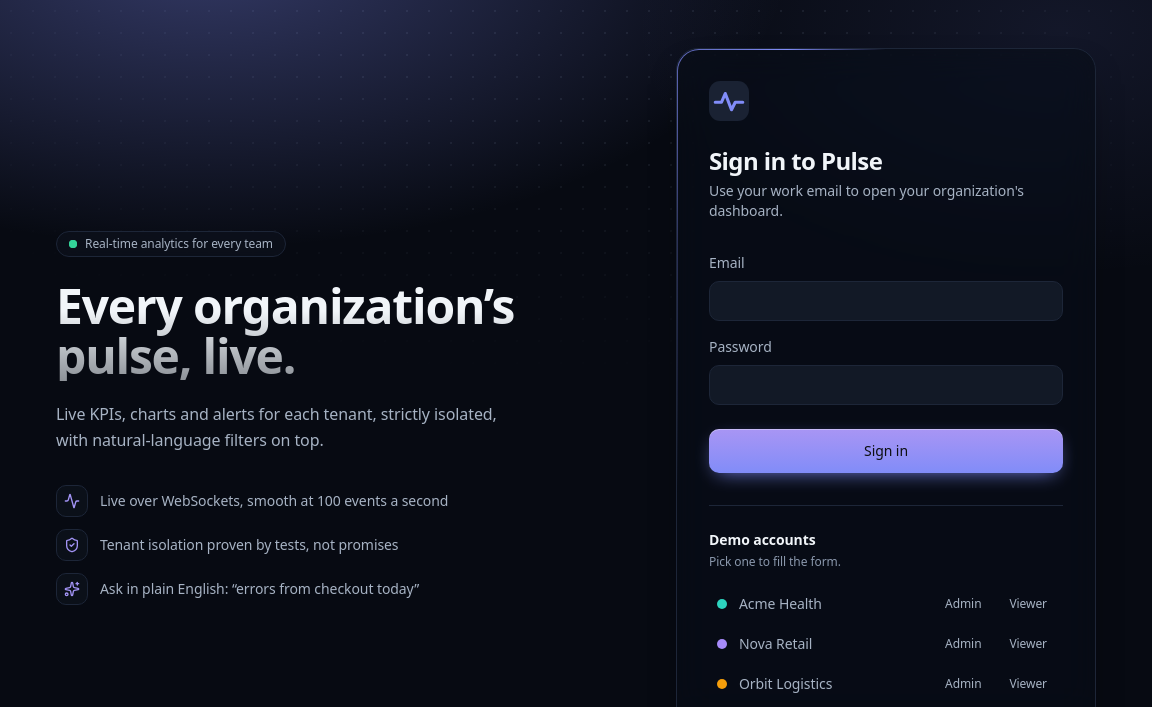
Test: Login page › shows the server's message when sign-in fails
# Demo account buttons fill the form.
Click the button "Viewer" in the row of "Acme Health": click(1028, 604) [1002, 590, 1055, 618]
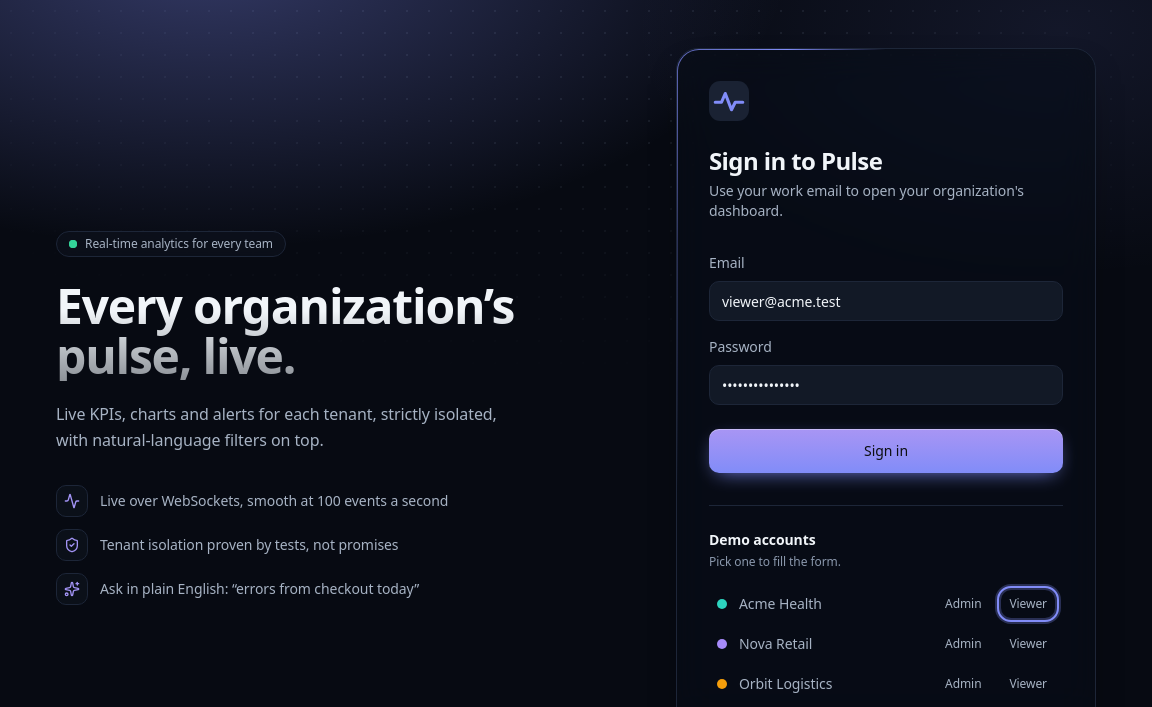
Click the button "Sign in": click(886, 451) [709, 429, 1063, 473]
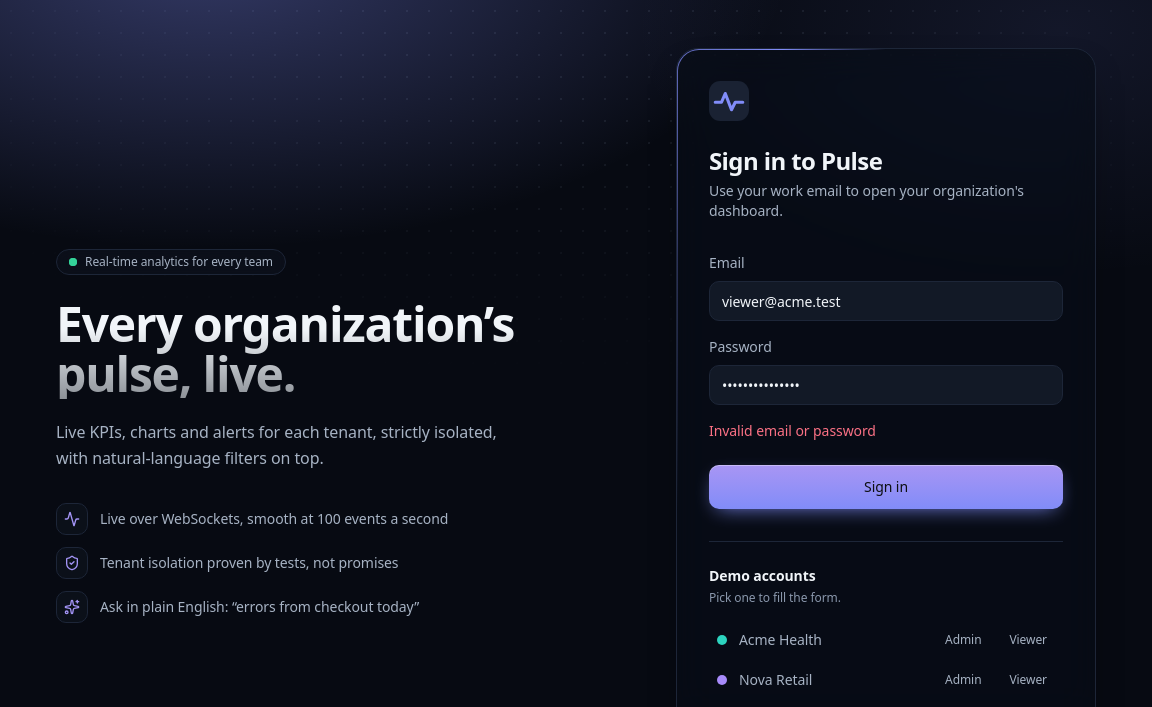
Expected: the message reads "Invalid email or password", [709, 421, 876, 440]
